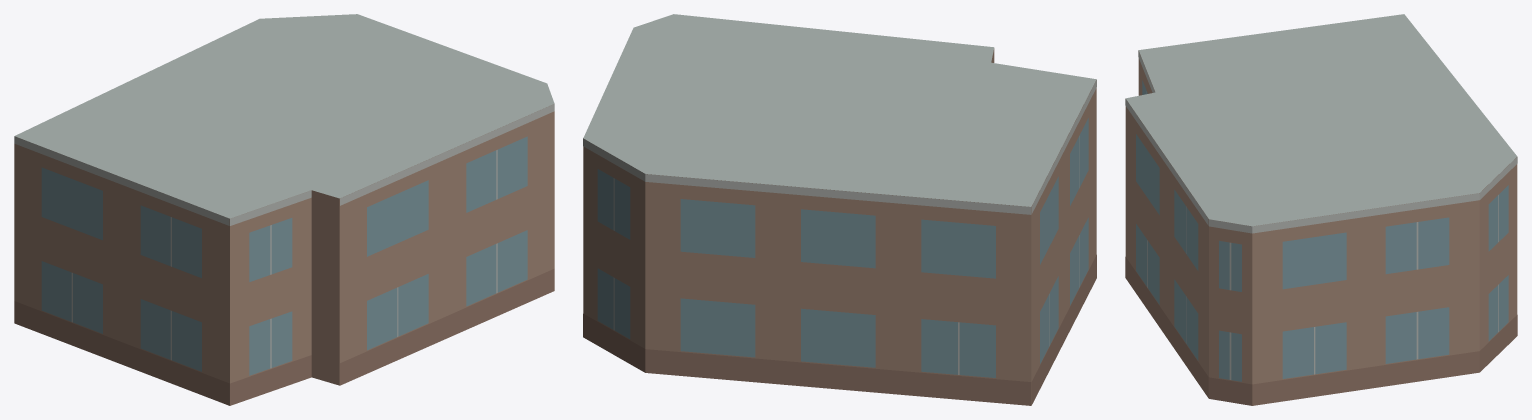
Rendered from survey-upis-32504457.glb.
3 views of the same model, side by side, from view 1: azimuth 30°, elevation 25°; view 2: azimuth 150°, elevation 25°; view 3: azimuth 270°, elevation 25° (orthographic). The views are drawn at different scales.
Parts seen in each view (by area): view 1: survey-upis-32504457.tmp; view 2: survey-upis-32504457.tmp; view 3: survey-upis-32504457.tmp.
Part boxes in pixels (<box>): survey-upis-32504457.tmp: <box>14,14,554,405</box>; survey-upis-32504457.tmp: <box>583,14,1096,405</box>; survey-upis-32504457.tmp: <box>1125,14,1517,405</box>.
Size of the model in its own units: 15.48 by 6.1 by 12.08.
